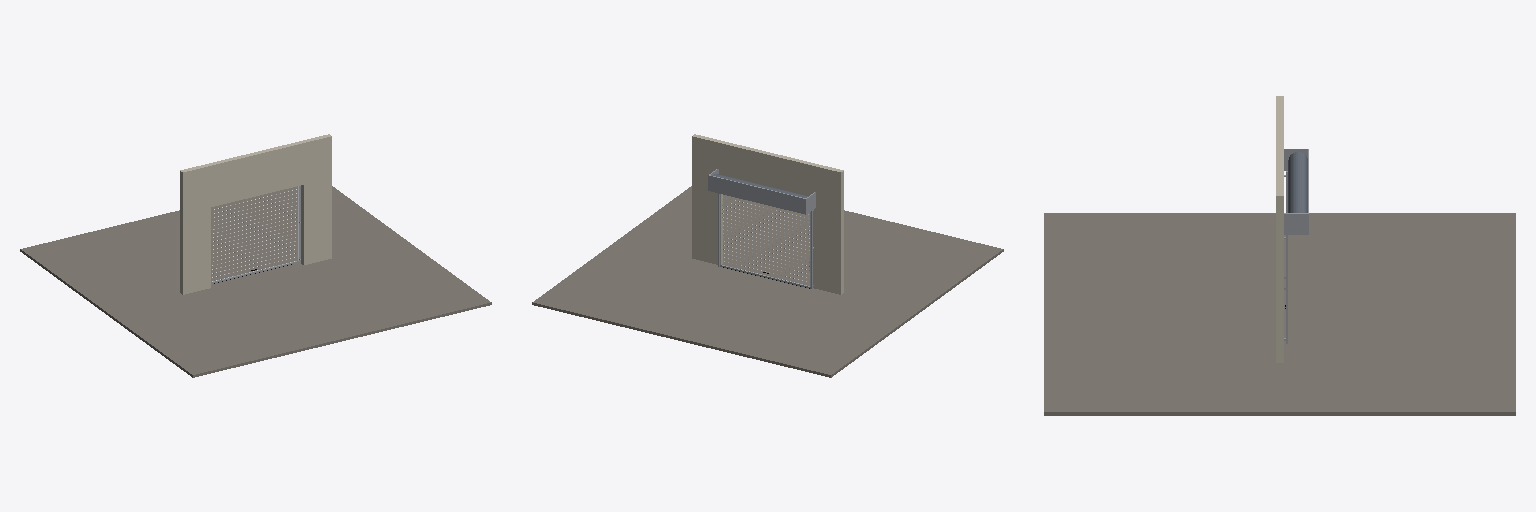
URDF robot description (db0506_rollup_simple):
<?xml version="1.0" ?>
<robot xmlns:doorbench="https://github.com/adamraudonis/DoorBench/schema/urdf-ext" name="db0506_rollup_simple">
  <link name="world_env">
    <visual name="floor_vis">
      <origin xyz="0 0 -0.05" rpy="0 0 0"/>
      <geometry>
        <box size="12 12 0.1"/>
      </geometry>
      <material name="mat_floor"/>
    </visual>
    <collision name="floor_col">
      <origin xyz="0 0 -0.05" rpy="0 0 0"/>
      <geometry>
        <box size="12 12 0.1"/>
      </geometry>
    </collision>
    <visual name="wall_left_vis">
      <origin xyz="-2.4275 0 2.35" rpy="0 0 0"/>
      <geometry>
        <box size="1.145 0.2 4.7"/>
      </geometry>
      <material name="mat_wall"/>
    </visual>
    <collision name="wall_left_col">
      <origin xyz="-2.4275 0 2.35" rpy="0 0 0"/>
      <geometry>
        <box size="1.145 0.2 4.7"/>
      </geometry>
    </collision>
    <visual name="wall_right_vis">
      <origin xyz="2.4275 0 2.35" rpy="0 0 0"/>
      <geometry>
        <box size="1.145 0.2 4.7"/>
      </geometry>
      <material name="mat_wall"/>
    </visual>
    <collision name="wall_right_col">
      <origin xyz="2.4275 0 2.35" rpy="0 0 0"/>
      <geometry>
        <box size="1.145 0.2 4.7"/>
      </geometry>
    </collision>
    <visual name="wall_header_vis">
      <origin xyz="0 0 3.9" rpy="0 0 0"/>
      <geometry>
        <box size="3.71 0.2 1.6"/>
      </geometry>
      <material name="mat_wall"/>
    </visual>
    <collision name="wall_header_col">
      <origin xyz="0 0 3.9" rpy="0 0 0"/>
      <geometry>
        <box size="3.71 0.2 1.6"/>
      </geometry>
    </collision>
    <visual name="guide_l_vis">
      <origin xyz="-1.865 0.185 1.55" rpy="0 0 0"/>
      <geometry>
        <box size="0.06 0.05 3.1"/>
      </geometry>
      <material name="mat_track"/>
    </visual>
    <collision name="guide_l_col">
      <origin xyz="-1.865 0.185 1.55" rpy="0 0 0"/>
      <geometry>
        <box size="0.06 0.05 3.1"/>
      </geometry>
    </collision>
    <visual name="guide_r_vis">
      <origin xyz="1.865 0.185 1.55" rpy="0 0 0"/>
      <geometry>
        <box size="0.06 0.05 3.1"/>
      </geometry>
      <material name="mat_track"/>
    </visual>
    <collision name="guide_r_col">
      <origin xyz="1.865 0.185 1.55" rpy="0 0 0"/>
      <geometry>
        <box size="0.06 0.05 3.1"/>
      </geometry>
    </collision>
    <visual name="guide_bracket_l_0_vis">
      <origin xyz="-1.865 0.13 0.12" rpy="0 0 0"/>
      <geometry>
        <box size="0.056 0.068 0.04"/>
      </geometry>
      <material name="mat_track"/>
    </visual>
    <visual name="guide_bracket_l_1_vis">
      <origin xyz="-1.865 0.13 1.55" rpy="0 0 0"/>
      <geometry>
        <box size="0.056 0.068 0.04"/>
      </geometry>
      <material name="mat_track"/>
    </visual>
    <visual name="guide_bracket_l_2_vis">
      <origin xyz="-1.865 0.13 2.98" rpy="0 0 0"/>
      <geometry>
        <box size="0.056 0.068 0.04"/>
      </geometry>
      <material name="mat_track"/>
    </visual>
    <visual name="guide_bracket_r_0_vis">
      <origin xyz="1.865 0.13 0.12" rpy="0 0 0"/>
      <geometry>
        <box size="0.056 0.068 0.04"/>
      </geometry>
      <material name="mat_track"/>
    </visual>
    <visual name="guide_bracket_r_1_vis">
      <origin xyz="1.865 0.13 1.55" rpy="0 0 0"/>
      <geometry>
        <box size="0.056 0.068 0.04"/>
      </geometry>
      <material name="mat_track"/>
    </visual>
    <visual name="guide_bracket_r_2_vis">
      <origin xyz="1.865 0.13 2.98" rpy="0 0 0"/>
      <geometry>
        <box size="0.056 0.068 0.04"/>
      </geometry>
      <material name="mat_track"/>
    </visual>
    <visual name="coil_drum_vis">
      <origin xyz="0 0.463 3.4" rpy="0 1.570796 0"/>
      <geometry>
        <cylinder radius="0.25" length="3.76"/>
      </geometry>
      <material name="mat_frame"/>
    </visual>
    <visual name="coil_shaft_vis">
      <origin xyz="0 0.463 3.4" rpy="0 1.570796 0"/>
      <geometry>
        <cylinder radius="0.022" length="3.92"/>
      </geometry>
      <material name="mat_track"/>
    </visual>
    <visual name="hood_front_vis">
      <origin xyz="0 0.725 3.4" rpy="0 0 0"/>
      <geometry>
        <box size="3.9 0.04 0.6"/>
      </geometry>
      <material name="mat_track"/>
    </visual>
    <visual name="hood_end_l_vis">
      <origin xyz="-1.95 0.4225 3.4" rpy="0 0 0"/>
      <geometry>
        <box size="0.04 0.645 0.6"/>
      </geometry>
      <material name="mat_track"/>
    </visual>
    <visual name="hood_end_r_vis">
      <origin xyz="1.95 0.4225 3.4" rpy="0 0 0"/>
      <geometry>
        <box size="0.04 0.645 0.6"/>
      </geometry>
      <material name="mat_track"/>
    </visual>
  </link>
  <link name="curtain">
    <inertial>
      <origin xyz="0 0.184835 1.397875" rpy="0 0 0"/>
      <mass value="128.96635"/>
      <inertia ixx="114.777179628" ixy="0" ixz="0" iyy="258.230551931" iyz="-0.026334461" izz="143.460365847"/>
    </inertial>
    <collision name="curtain_slab_col_col">
      <origin xyz="0 0.185 1.535" rpy="0 0 0"/>
      <geometry>
        <box size="3.66 0.01 3.05"/>
      </geometry>
    </collision>
    <visual name="curtain_rail_b_vis">
      <origin xyz="0 0.185 0.0325" rpy="0 0 0"/>
      <geometry>
        <box size="3.66 0.01 0.045"/>
      </geometry>
      <material name="mat_curtain"/>
    </visual>
    <visual name="curtain_rail_t_vis">
      <origin xyz="0 0.185 3.0375" rpy="0 0 0"/>
      <geometry>
        <box size="3.66 0.01 0.045"/>
      </geometry>
      <material name="mat_curtain"/>
    </visual>
    <visual name="curtain_stile_h_vis">
      <origin xyz="-1.8075 0.185 1.535" rpy="0 0 0"/>
      <geometry>
        <box size="0.045 0.01 3.05"/>
      </geometry>
      <material name="mat_curtain"/>
    </visual>
    <visual name="curtain_stile_l_vis">
      <origin xyz="1.8075 0.185 1.535" rpy="0 0 0"/>
      <geometry>
        <box size="0.045 0.01 3.05"/>
      </geometry>
      <material name="mat_curtain"/>
    </visual>
    <visual name="curtain_grille_0_vis">
      <origin xyz="0 0.185 0.08625" rpy="0 1.570796 0"/>
      <geometry>
        <cylinder radius="0.006" length="3.57"/>
      </geometry>
      <material name="mat_curtain"/>
    </visual>
    <visual name="curtain_grille_1_vis">
      <origin xyz="0 0.185 0.23875" rpy="0 1.570796 0"/>
      <geometry>
        <cylinder radius="0.006" length="3.57"/>
      </geometry>
      <material name="mat_curtain"/>
    </visual>
    <visual name="curtain_grille_2_vis">
      <origin xyz="0 0.185 0.39125" rpy="0 1.570796 0"/>
      <geometry>
        <cylinder radius="0.006" length="3.57"/>
      </geometry>
      <material name="mat_curtain"/>
    </visual>
    <visual name="curtain_grille_3_vis">
      <origin xyz="0 0.185 0.54375" rpy="0 1.570796 0"/>
      <geometry>
        <cylinder radius="0.006" length="3.57"/>
      </geometry>
      <material name="mat_curtain"/>
    </visual>
    <visual name="curtain_grille_4_vis">
      <origin xyz="0 0.185 0.69625" rpy="0 1.570796 0"/>
      <geometry>
        <cylinder radius="0.006" length="3.57"/>
      </geometry>
      <material name="mat_curtain"/>
    </visual>
    <visual name="curtain_grille_5_vis">
      <origin xyz="0 0.185 0.84875" rpy="0 1.570796 0"/>
      <geometry>
        <cylinder radius="0.006" length="3.57"/>
      </geometry>
      <material name="mat_curtain"/>
    </visual>
    <visual name="curtain_grille_6_vis">
      <origin xyz="0 0.185 1.00125" rpy="0 1.570796 0"/>
      <geometry>
        <cylinder radius="0.006" length="3.57"/>
      </geometry>
      <material name="mat_curtain"/>
    </visual>
    <visual name="curtain_grille_7_vis">
      <origin xyz="0 0.185 1.15375" rpy="0 1.570796 0"/>
      <geometry>
        <cylinder radius="0.006" length="3.57"/>
      </geometry>
      <material name="mat_curtain"/>
    </visual>
    <visual name="curtain_grille_8_vis">
      <origin xyz="0 0.185 1.30625" rpy="0 1.570796 0"/>
      <geometry>
        <cylinder radius="0.006" length="3.57"/>
      </geometry>
      <material name="mat_curtain"/>
    </visual>
    <visual name="curtain_grille_9_vis">
      <origin xyz="0 0.185 1.45875" rpy="0 1.570796 0"/>
      <geometry>
        <cylinder radius="0.006" length="3.57"/>
      </geometry>
      <material name="mat_curtain"/>
    </visual>
    <visual name="curtain_grille_10_vis">
      <origin xyz="0 0.185 1.61125" rpy="0 1.570796 0"/>
      <geometry>
        <cylinder radius="0.006" length="3.57"/>
      </geometry>
      <material name="mat_curtain"/>
    </visual>
    <visual name="curtain_grille_11_vis">
      <origin xyz="0 0.185 1.76375" rpy="0 1.570796 0"/>
      <geometry>
        <cylinder radius="0.006" length="3.57"/>
      </geometry>
      <material name="mat_curtain"/>
    </visual>
    <visual name="curtain_grille_12_vis">
      <origin xyz="0 0.185 1.91625" rpy="0 1.570796 0"/>
      <geometry>
        <cylinder radius="0.006" length="3.57"/>
      </geometry>
      <material name="mat_curtain"/>
    </visual>
    <visual name="curtain_grille_13_vis">
      <origin xyz="0 0.185 2.06875" rpy="0 1.570796 0"/>
      <geometry>
        <cylinder radius="0.006" length="3.57"/>
      </geometry>
      <material name="mat_curtain"/>
    </visual>
    <visual name="curtain_grille_14_vis">
      <origin xyz="0 0.185 2.22125" rpy="0 1.570796 0"/>
      <geometry>
        <cylinder radius="0.006" length="3.57"/>
      </geometry>
      <material name="mat_curtain"/>
    </visual>
    <visual name="curtain_grille_15_vis">
      <origin xyz="0 0.185 2.37375" rpy="0 1.570796 0"/>
      <geometry>
        <cylinder radius="0.006" length="3.57"/>
      </geometry>
      <material name="mat_curtain"/>
    </visual>
    <visual name="curtain_grille_16_vis">
      <origin xyz="0 0.185 2.52625" rpy="0 1.570796 0"/>
      <geometry>
        <cylinder radius="0.006" length="3.57"/>
      </geometry>
      <material name="mat_curtain"/>
    </visual>
    <visual name="curtain_grille_17_vis">
      <origin xyz="0 0.185 2.67875" rpy="0 1.570796 0"/>
      <geometry>
        <cylinder radius="0.006" length="3.57"/>
      </geometry>
      <material name="mat_curtain"/>
    </visual>
    <visual name="curtain_grille_18_vis">
      <origin xyz="0 0.185 2.83125" rpy="0 1.570796 0"/>
      <geometry>
        <cylinder radius="0.006" length="3.57"/>
      </geometry>
      <material name="mat_curtain"/>
    </visual>
    <visual name="curtain_grille_19_vis">
      <origin xyz="0 0.185 2.98375" rpy="0 1.570796 0"/>
      <geometry>
        <cylinder radius="0.006" length="3.57"/>
      </geometry>
      <material name="mat_curtain"/>
    </visual>
    <visual name="bottom_bar_vis">
      <origin xyz="0 0.185 0.042" rpy="0 0 0"/>
      <geometry>
        <box size="3.66 0.04 0.06"/>
      </geometry>
      <material name="mat_track"/>
    </visual>
    <collision name="bottom_bar_col">
      <origin xyz="0 0.185 0.042" rpy="0 0 0"/>
      <geometry>
        <box size="3.66 0.04 0.06"/>
      </geometry>
    </collision>
    <visual name="bottom_astragal_vis">
      <origin xyz="0 0.185 0.006" rpy="0 0 0"/>
      <geometry>
        <box size="3.66 0.03 0.012"/>
      </geometry>
      <material name="mat_astragal"/>
    </visual>
    <collision name="bottom_astragal_col">
      <origin xyz="0 0.185 0.006" rpy="0 0 0"/>
      <geometry>
        <box size="3.66 0.03 0.012"/>
      </geometry>
    </collision>
    <visual name="lift_handle_n_vis">
      <origin xyz="0 0.18 0.16" rpy="1.570796 0 0"/>
      <geometry>
        <mesh filename="../../hardware/pull_bdc5e965ab.obj"/>
      </geometry>
      <material name="mat_op_black_matte_metal"/>
    </visual>
    <collision name="lift_handle_col_n_col">
      <origin xyz="0 0.13 0.16" rpy="0 0 0"/>
      <geometry>
        <box size="0.2 0.012 0.03"/>
      </geometry>
    </collision>
  </link>
  <joint name="curtain_slide" type="prismatic">
    <origin xyz="0 0 0" rpy="0 0 0"/>
    <parent link="world_env"/>
    <child link="curtain"/>
    <axis xyz="0 0 1"/>
    <limit lower="0" upper="0.003" effort="5000" velocity="10"/>
    <dynamics damping="8.448318" friction="131.531697"/>
    <doorbench:spring stiffness="113.86439" springref="10" note="tau = -stiffness*(q - springref); not native URDF"/>
    <doorbench:note text="padlock: locked (nothing on this side withdraws the lock bars) counterbalance ~90% of 129 kg"/>
  </joint>
  <material name="mat_astragal">
    <color rgba="0.09 0.09 0.1 1"/>
  </material>
  <material name="mat_curtain">
    <color rgba="0.8 0.81 0.83 1"/>
  </material>
  <material name="mat_floor">
    <color rgba="0.55 0.53 0.5 1"/>
  </material>
  <material name="mat_frame">
    <color rgba="0.45 0.48 0.52 1"/>
  </material>
  <material name="mat_op_black_matte_metal">
    <color rgba="0.05 0.05 0.05 1"/>
  </material>
  <material name="mat_track">
    <color rgba="0.65 0.66 0.68 1"/>
  </material>
  <material name="mat_wall">
    <color rgba="0.78 0.76 0.7 1"/>
  </material>
</robot>

--- Facts derived from the render (not from the file) ---
The picture shows the robot from 3 angles, left to right: view 1: azimuth 30°, elevation 25°; view 2: azimuth 150°, elevation 25°; view 3: azimuth 270°, elevation 25°; orthographic projection.
Robot: db0506_rollup_simple — 2 links, 1 joints (1 prismatic); root link world_env; default pose: every joint at zero.
Links seen in each view (by area): view 1: world_env, curtain; view 2: world_env, curtain; view 3: world_env.
Link boxes in pixels (box(x1,y1,x2,y2)): world_env: box(20, 134, 491, 377); curtain: box(211, 186, 298, 283); world_env: box(532, 134, 1003, 377); curtain: box(720, 194, 810, 288); world_env: box(1044, 96, 1515, 415).
Bounding box of the posed robot: 12 × 12 × 4.8 m (x, y, z).
Meshes: 1 distinct files referenced, 1 mesh visuals loaded (1 OBJ).
